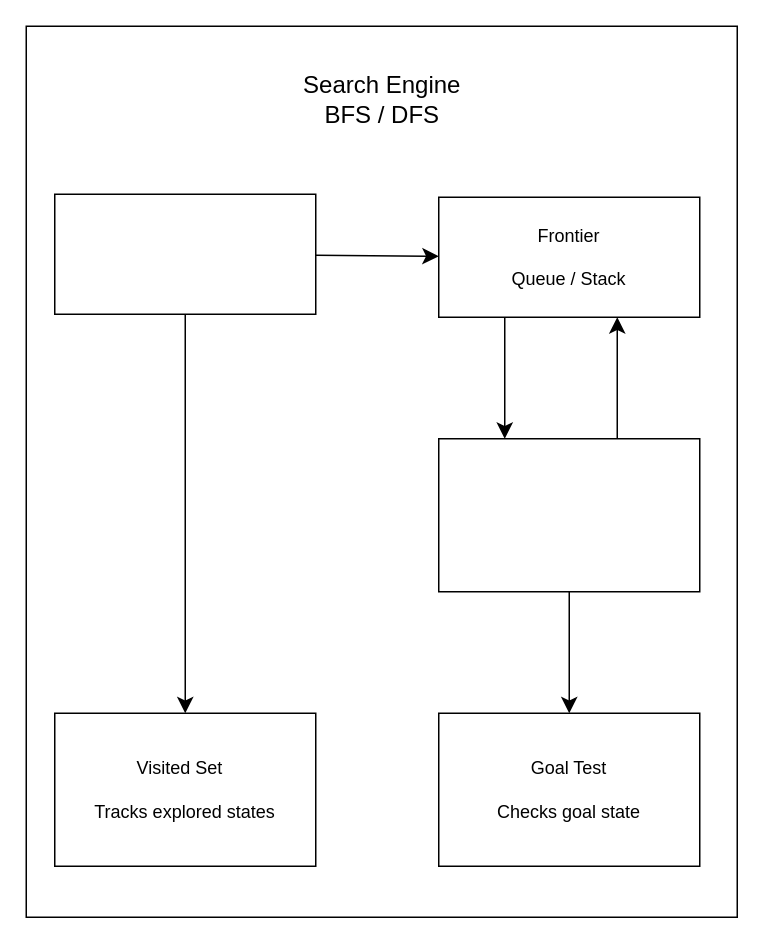
This 764x944 diagram has some shape labels left out. The box of each missing label's shape, as (x1, y1, x2, y2) in pixels:
Search Controller Controls BFS / DFS: (53, 193, 316, 314)
State Expansion Generates next states: (437, 437, 700, 592)
